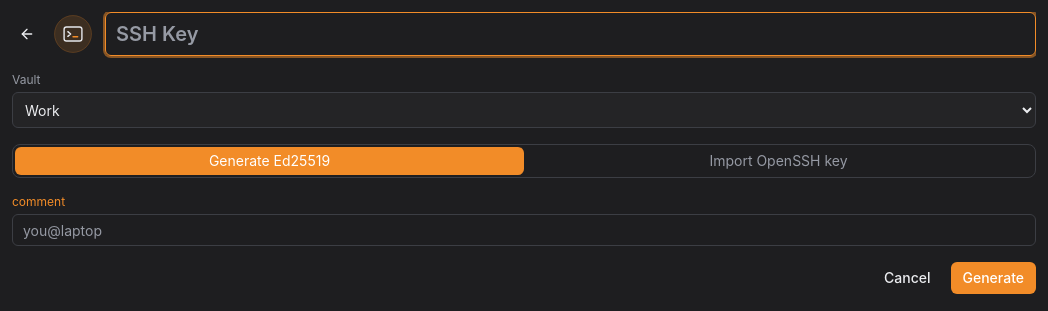
Test: SSH key create › generates via api.sshGenerate and shows public key + fingerprint
Type "Laptop" into the field named "Title". click: (570, 34)
box: [105,12,1036,56]
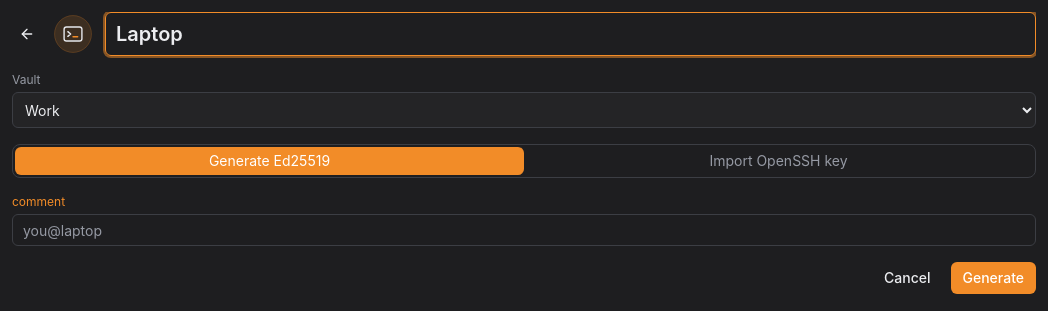
Type "me@laptop" into the field named "Comment". click: (524, 230)
box: [12,214,1036,246]
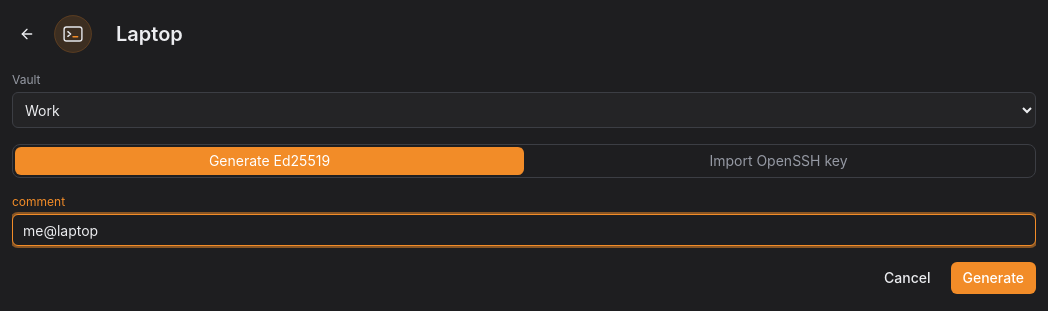
Click the button "Generate". click: (993, 278)
box: [950,262,1036,294]
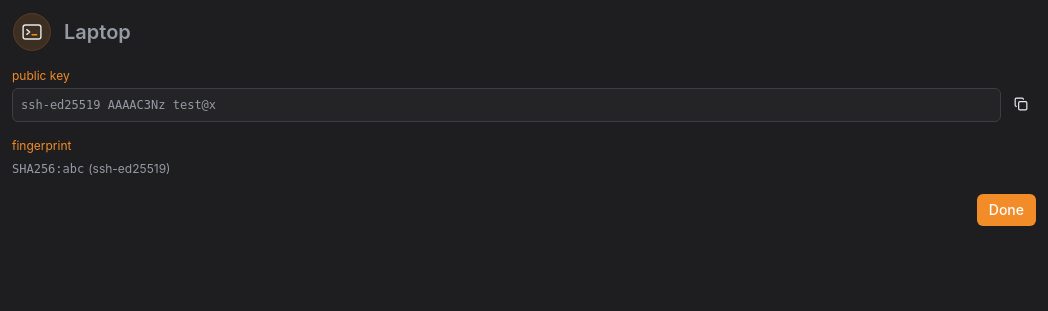
expect the text with test id "ssh-public-key" reads "ssh-ed25519 AAAAC3Nz test@x": met, box [21,98,216,112]
expect the text with test id "ssh-fingerprint" reads "SHA256:abc": met, box [12,162,84,176]
